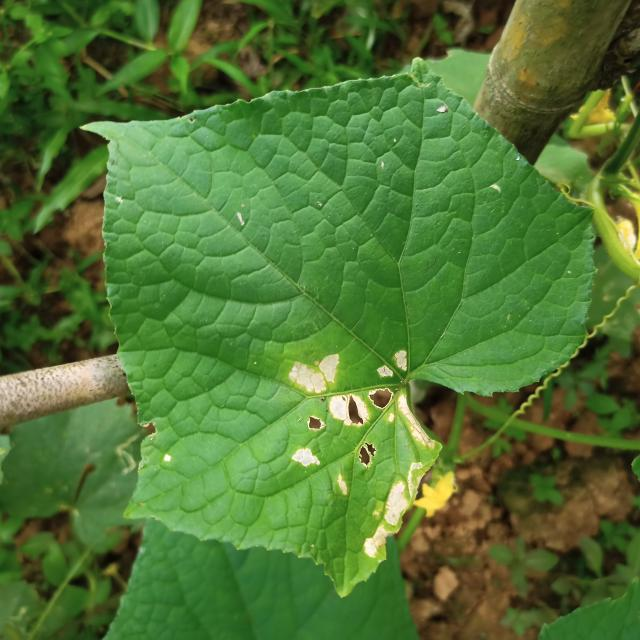disease_cucumber: (289, 346, 438, 564)
